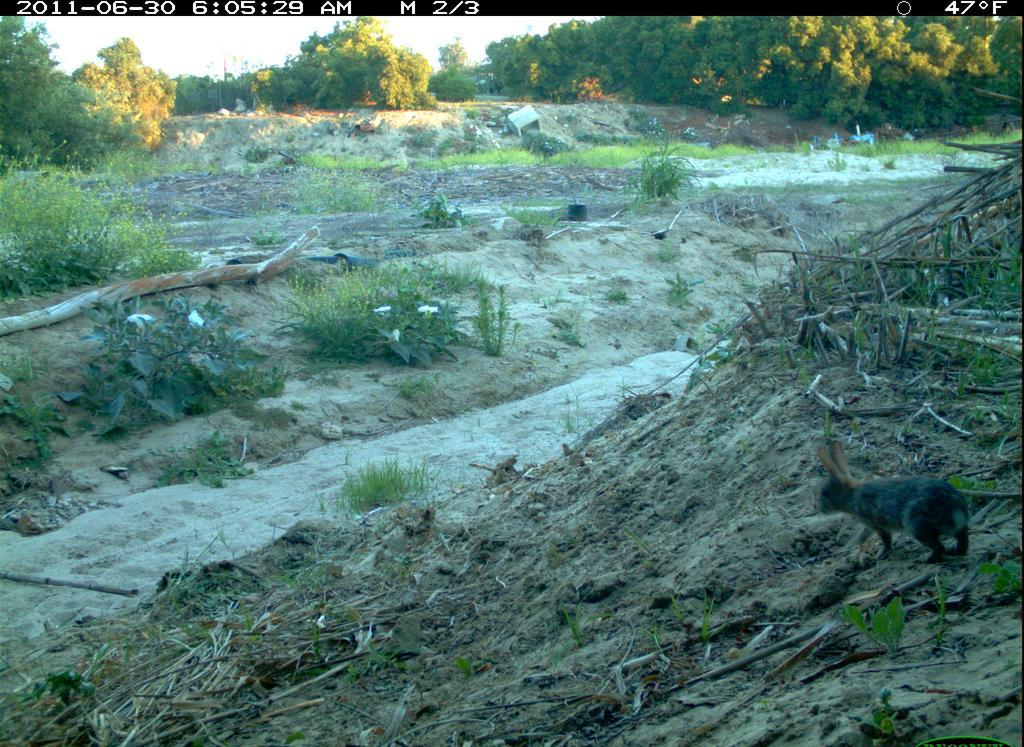rabbit: (808, 434, 978, 571)
